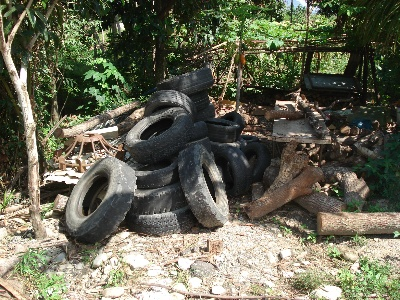tire: (65, 156, 136, 245), (177, 143, 229, 229), (125, 105, 190, 162), (125, 209, 198, 237), (217, 144, 252, 197), (155, 67, 215, 94), (143, 89, 198, 117), (204, 116, 240, 141)
